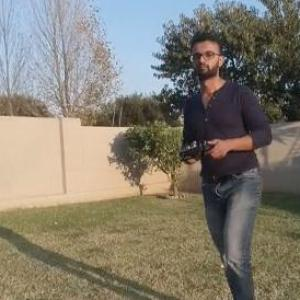follow: (176, 17, 284, 299)
